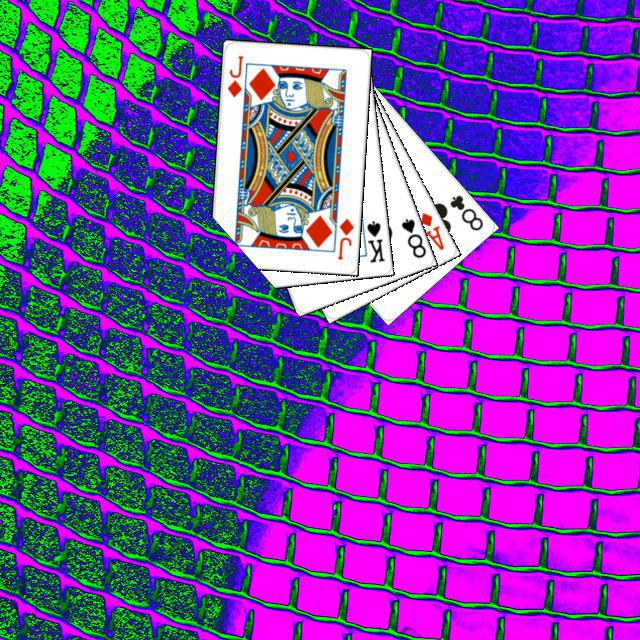8c: (445, 190, 485, 233)
8s: (396, 213, 428, 260)
Ad: (415, 207, 446, 252)
Jd: (332, 213, 355, 261), (223, 51, 245, 99)
Ks: (362, 216, 386, 264)
